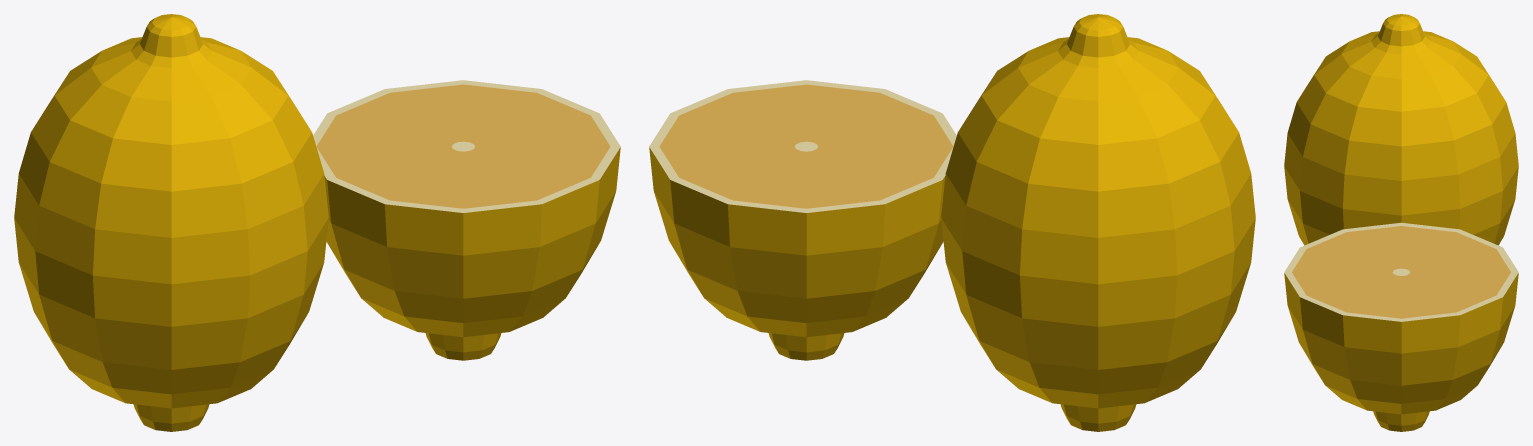
The model's file is vr_lemon.glb.
3 renders of one model, left to right at view 1: azimuth 30°, elevation 25°; view 2: azimuth 150°, elevation 25°; view 3: azimuth 270°, elevation 25°, orthographic. The views are drawn at different scales.
Visible parts, largest first — view 1: Object_4, Object_6, Object_5; view 2: Object_4, Object_6, Object_5; view 3: Object_4, Object_6, Object_5.
Part boxes in pixels (x1,y1,x2,y2): Object_4: (14,14,620,431); Object_6: (316,84,610,208); Object_5: (313,80,620,212); Object_4: (649,14,1255,431); Object_6: (659,84,953,208); Object_5: (649,80,956,212); Object_4: (1284,14,1518,431); Object_6: (1292,226,1510,318); Object_5: (1284,222,1518,321).
Size of the model in its own units: 4.14 by 2.88 by 2.
